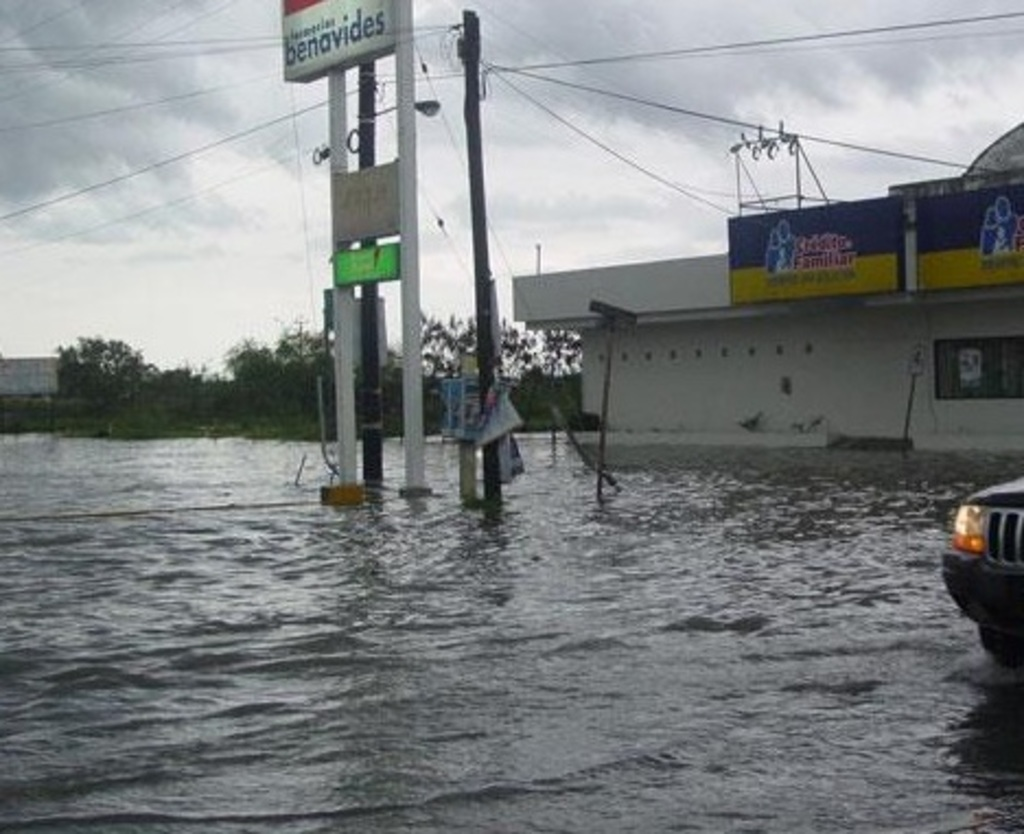mobil: (935, 489, 1024, 676)
